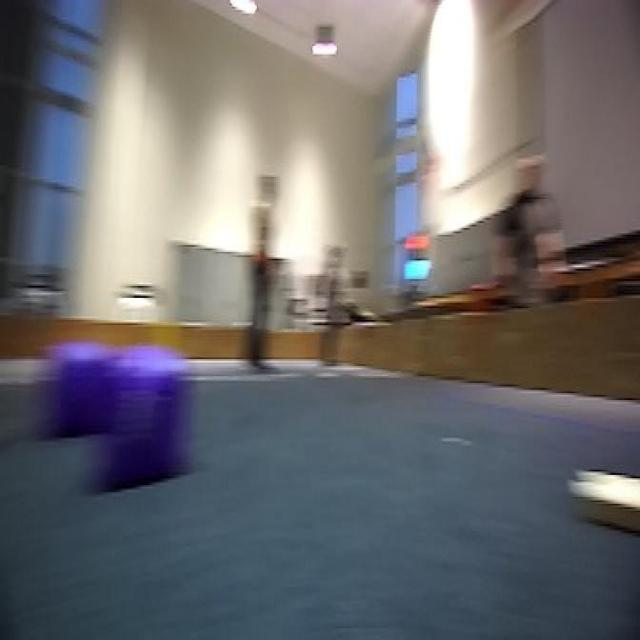frc_cube: (103, 369, 188, 511), (44, 338, 116, 442)
